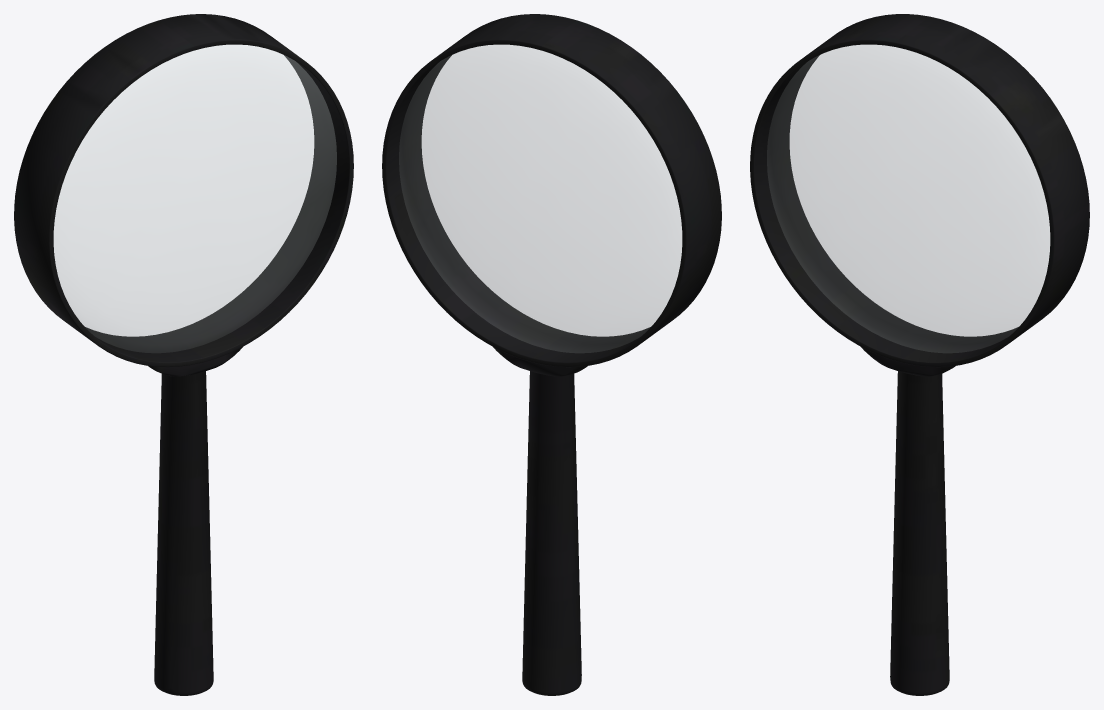
File: magnifying_glass_01.glb
3 views of the same model, side by side, from view 1: azimuth 30°, elevation 25°; view 2: azimuth 150°, elevation 25°; view 3: azimuth 330°, elevation 25° (orthographic).
Parts seen in each view (by area): view 1: magnifying_glass_01; view 2: magnifying_glass_01; view 3: magnifying_glass_01.
Boxes of the visible parts, bbox=[...] form: magnifying_glass_01: bbox=[14, 14, 353, 695]; magnifying_glass_01: bbox=[382, 14, 721, 695]; magnifying_glass_01: bbox=[750, 14, 1089, 695].
Size of the model in its own units: 0.1321 by 0.2715 by 0.0267.
2 materials, 1 textured.
